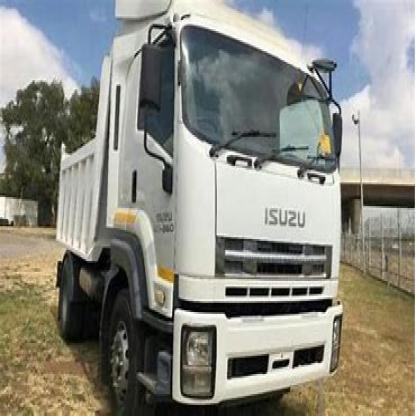dump_truck: (47, 7, 353, 410)
